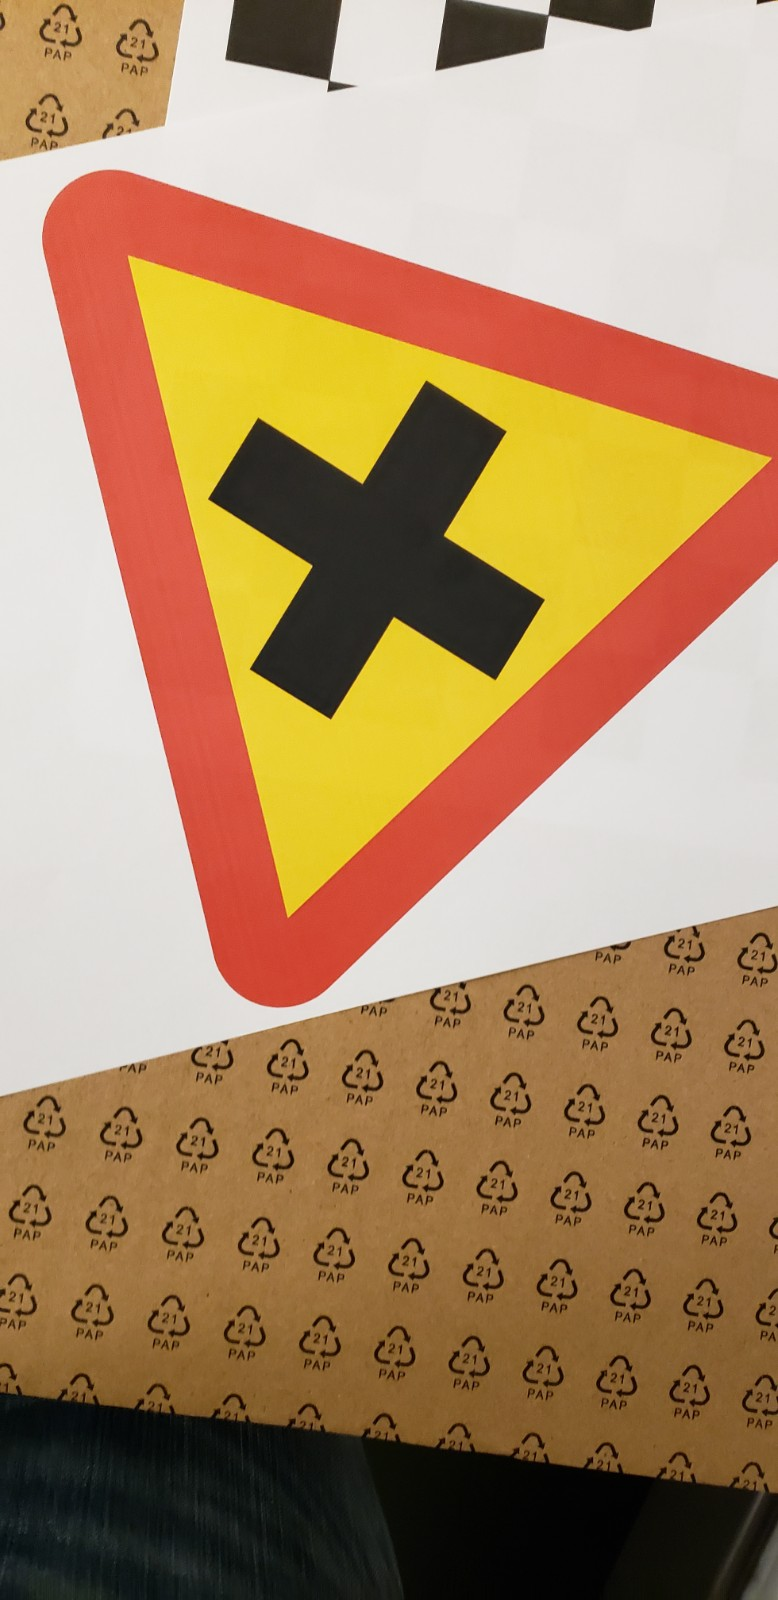junction: (6, 143, 778, 1074)
